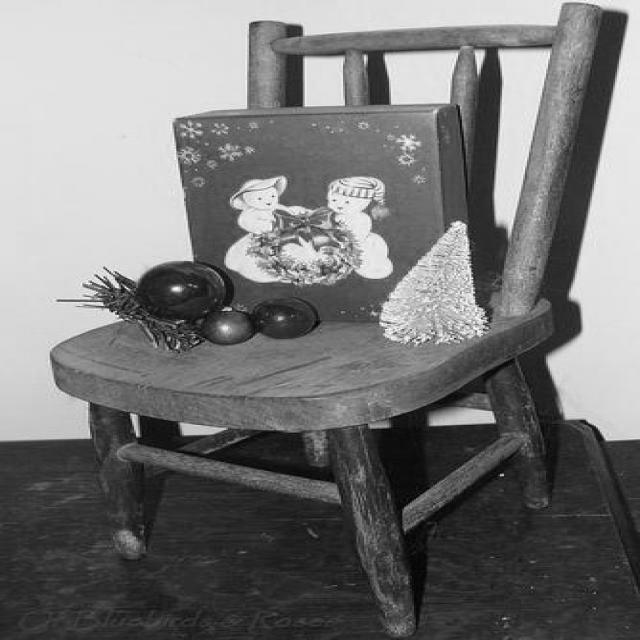chair: (46, 0, 613, 636)
